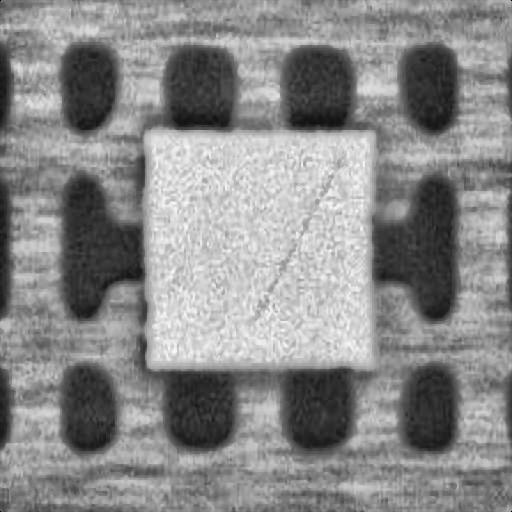DIE_CRACK: (380, 103, 510, 211)
